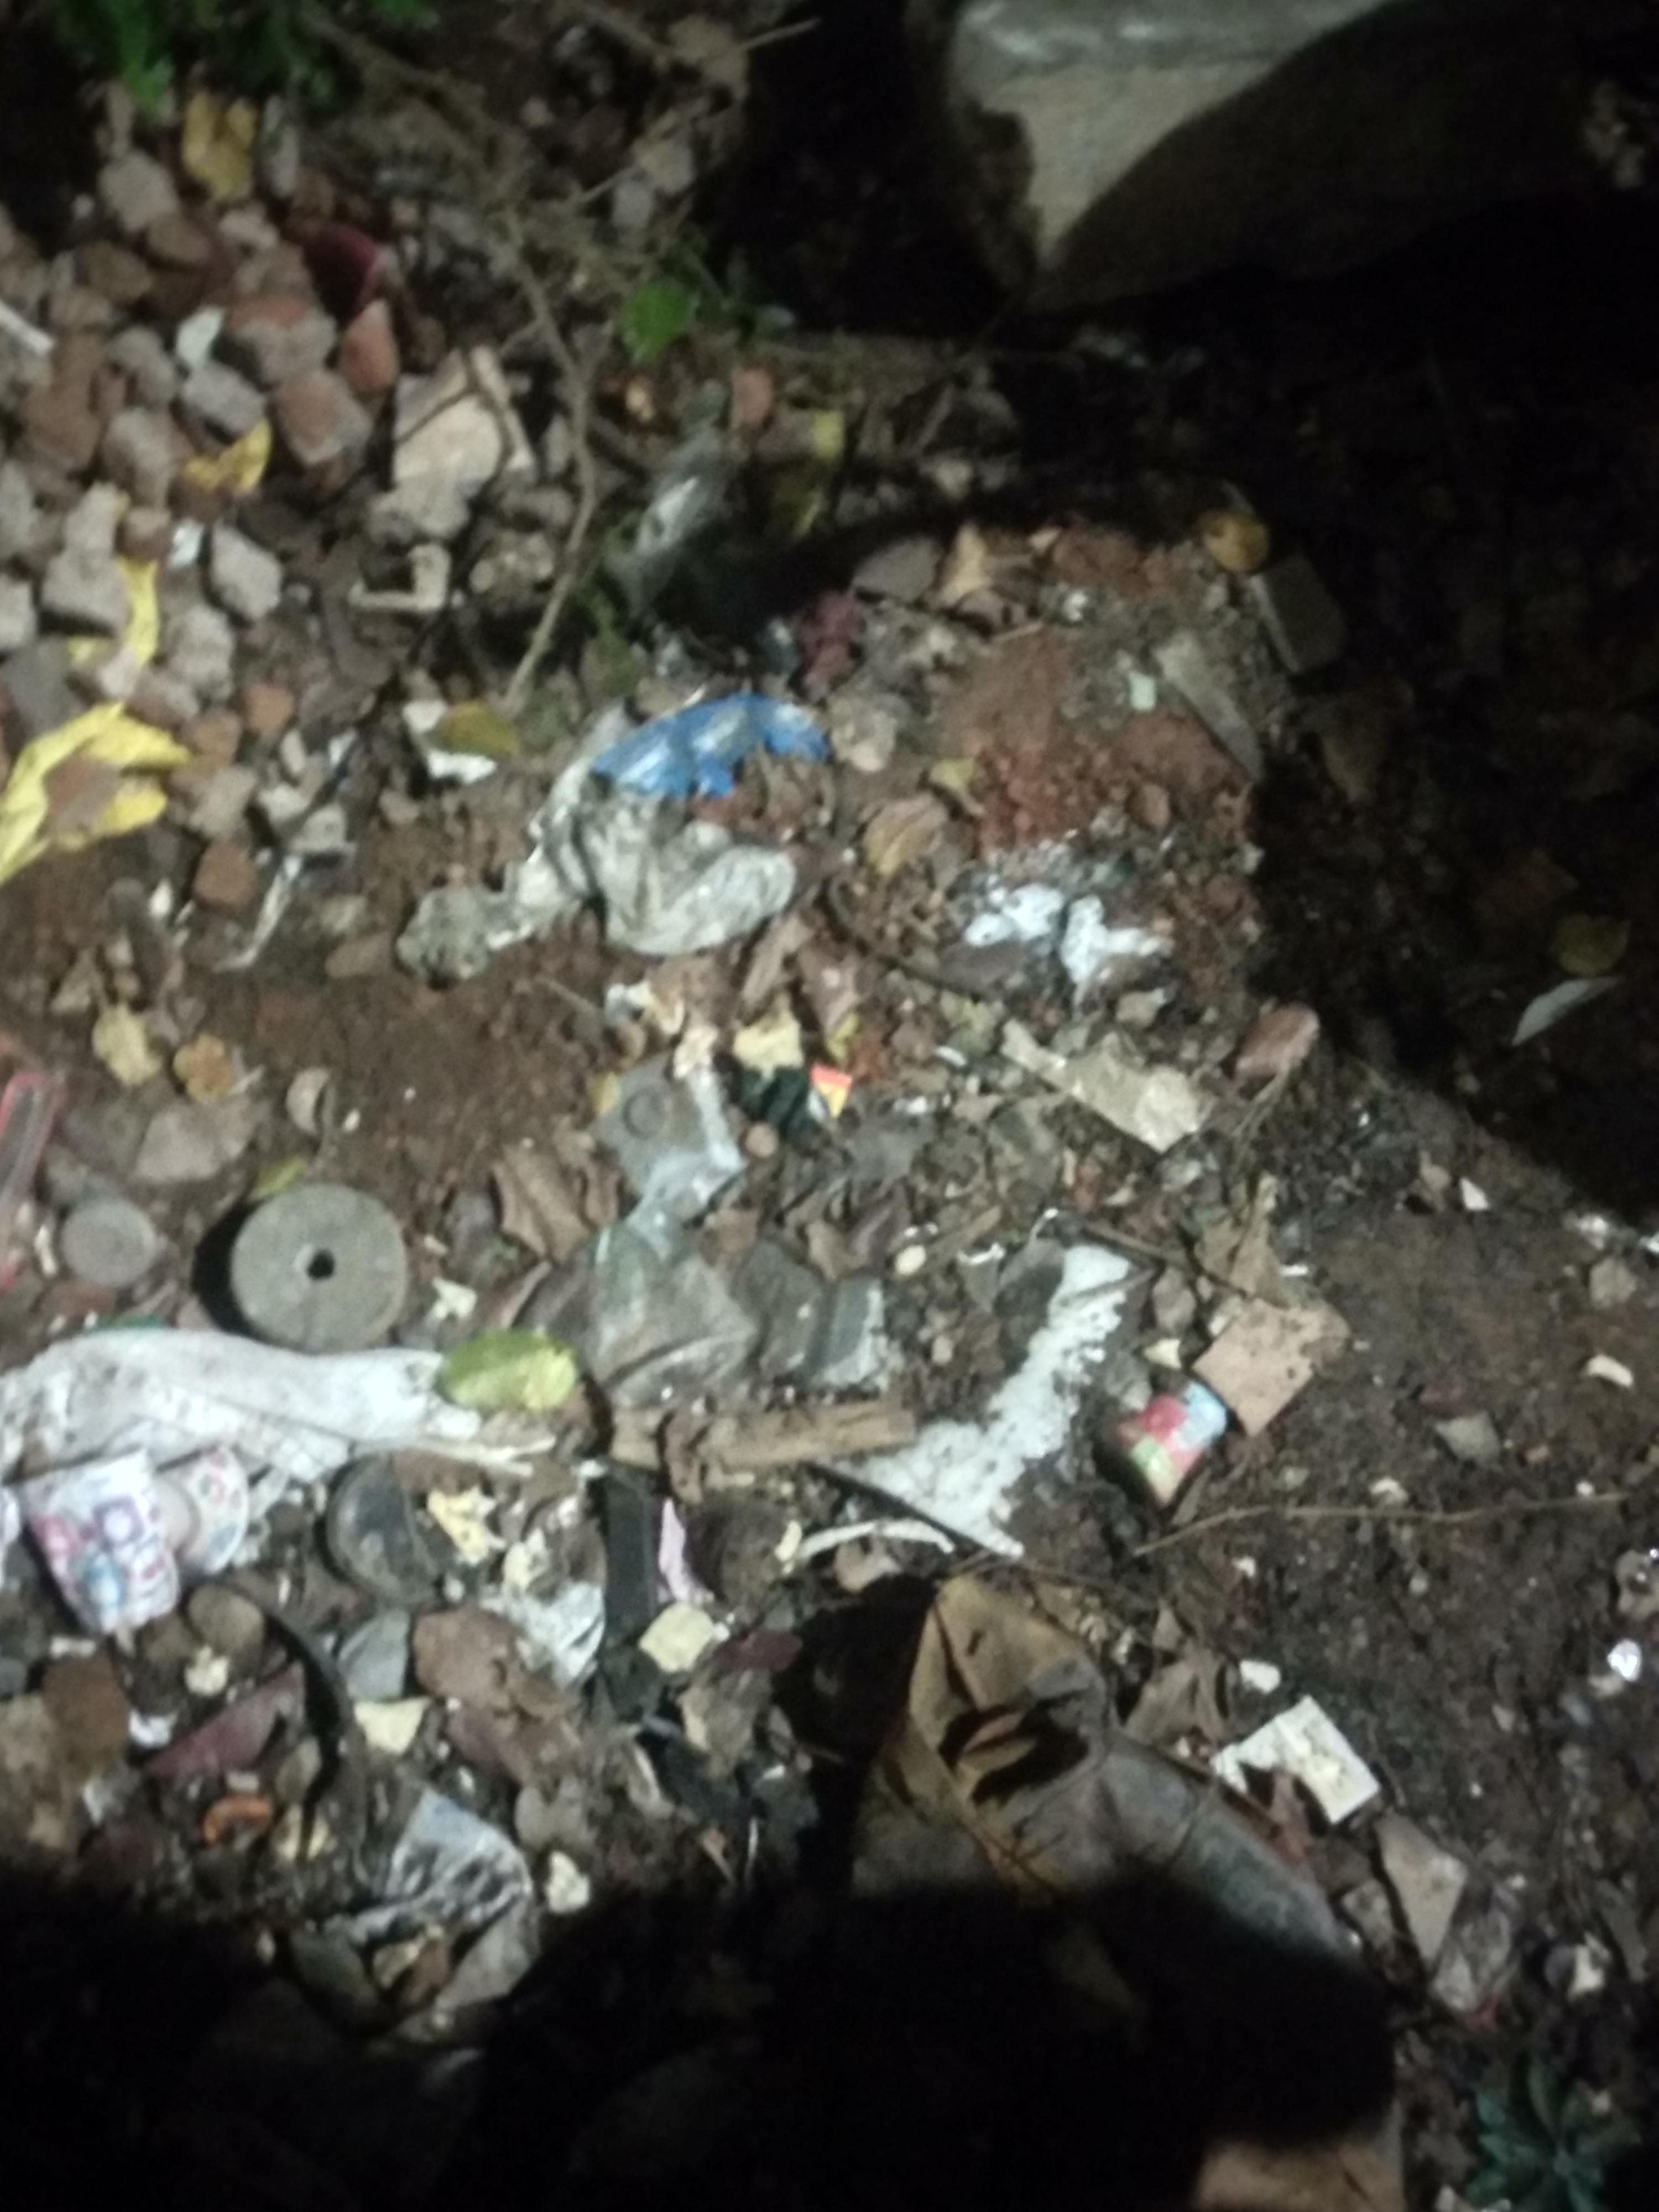trash: (0, 679, 1429, 2029)
